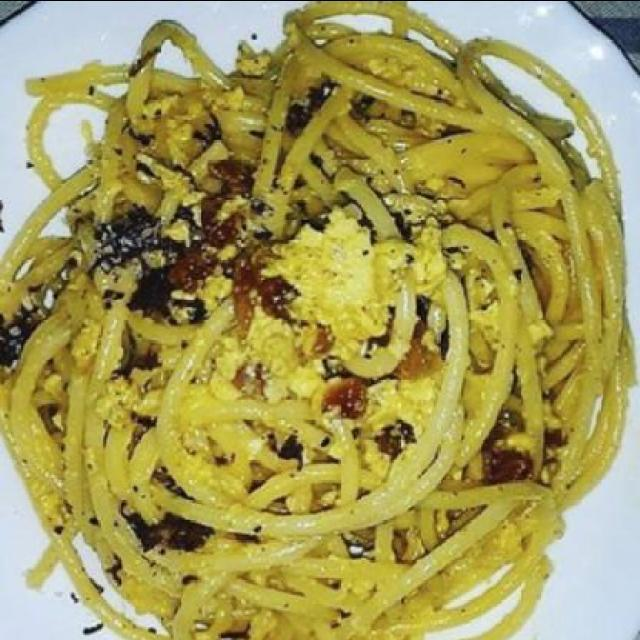Pasta with carbonara sauce: (27, 1, 639, 632)
